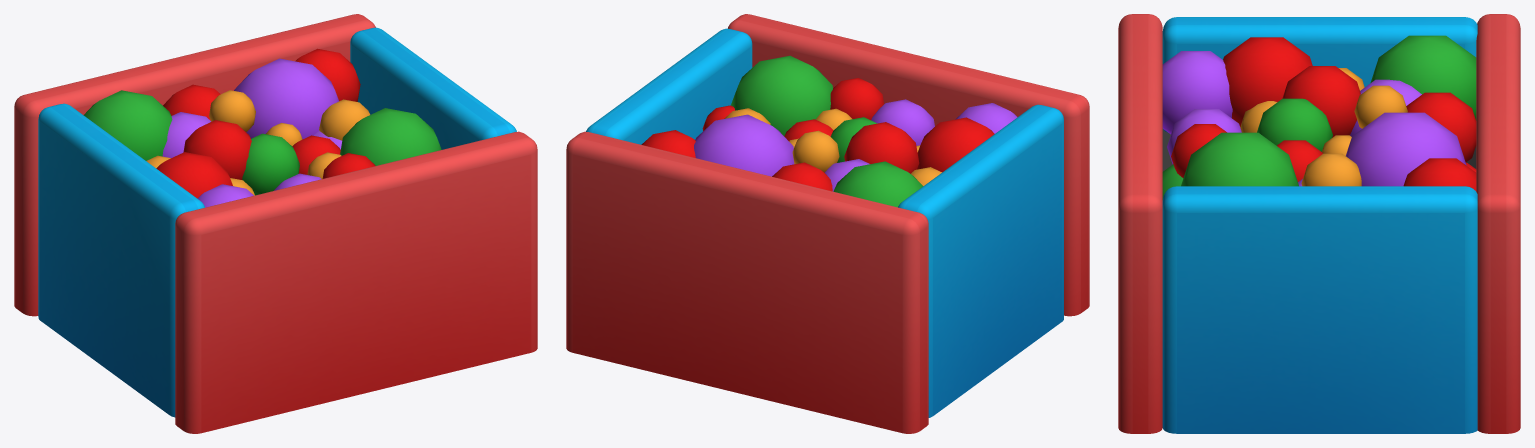
File: baby_boss_top_havuz_kopru.fbx
3 renders of one model, left to right at view 1: azimuth 30°, elevation 25°; view 2: azimuth 150°, elevation 25°; view 3: azimuth 270°, elevation 25°, orthographic. The views are drawn at different scales.
Visible parts, largest first — view 1: Cube.004, baby_boss_havuz_top; view 2: Cube.004, baby_boss_havuz_top; view 3: Cube.004, baby_boss_havuz_top.
Part boxes in pixels (x1,y1,x2,y2): Cube.004: (14,14,537,433); baby_boss_havuz_top: (83,48,441,207); Cube.004: (566,14,1089,433); baby_boss_havuz_top: (641,55,1017,207); Cube.004: (1118,14,1520,433); baby_boss_havuz_top: (1162,35,1476,199).
Size of the model in its own units: 8.81 by 5.36 by 7.84.
